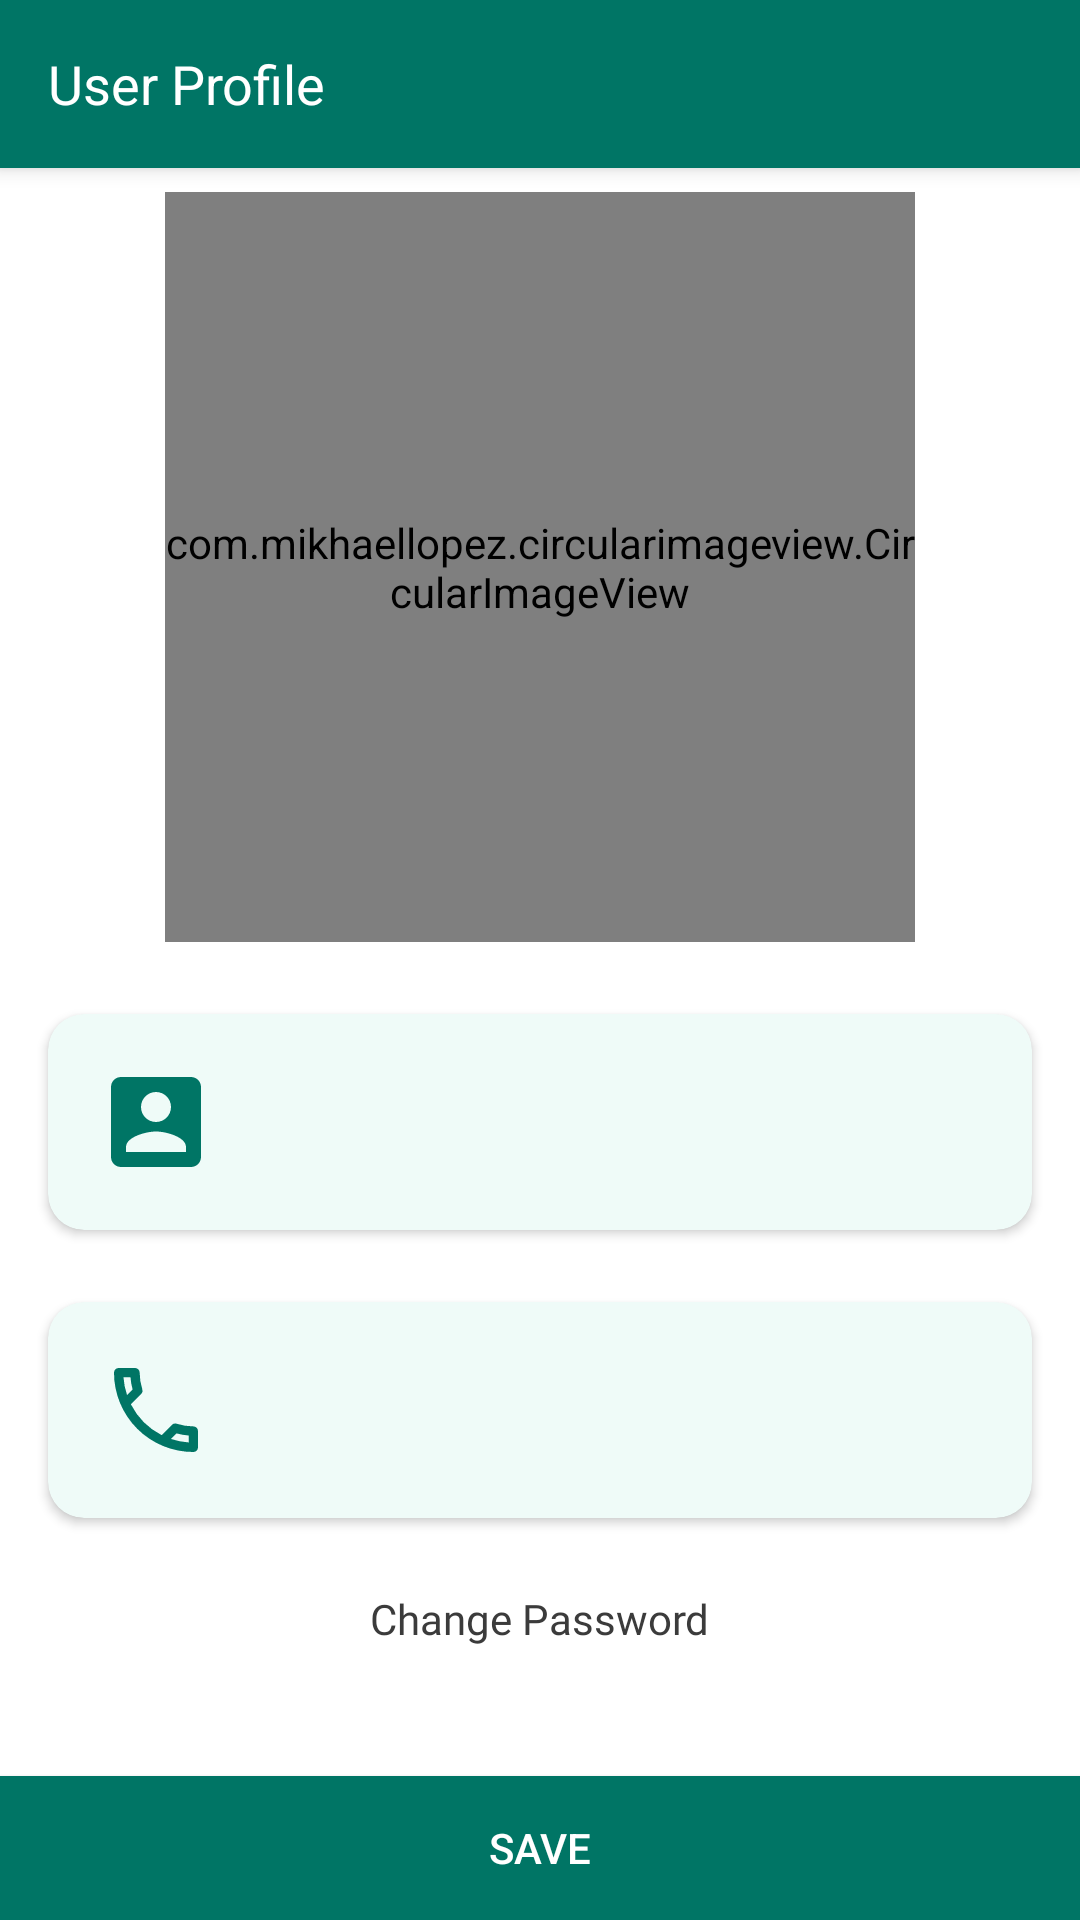

Icon click points for this 1080 x 1920 phone screenshot, format [x,y]:
phone: [156,1410]
user detail: [156,1122]
